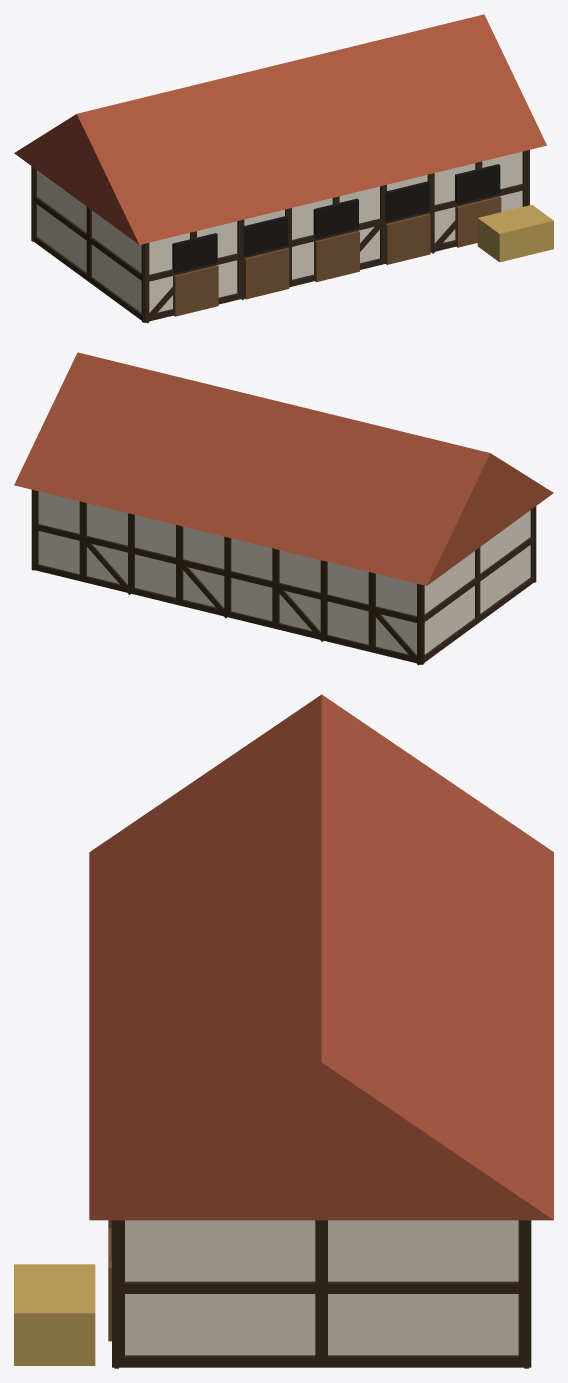
File: stable.glb
3 renders of one model, top to bottom at view 1: azimuth 30°, elevation 25°; view 2: azimuth 150°, elevation 25°; view 3: azimuth 270°, elevation 25°, orthographic. The views are drawn at different scales.
Parts seen in each view (by area): view 1: Stable; view 2: Stable; view 3: Stable.
Boxes of the visible parts, box(x1,y1,x2,y2) form: Stable: box(14, 14, 553, 323); Stable: box(14, 352, 553, 665); Stable: box(14, 694, 553, 1368).
Bounding box in the file's own units: 15 × 6.07 × 9.3.
